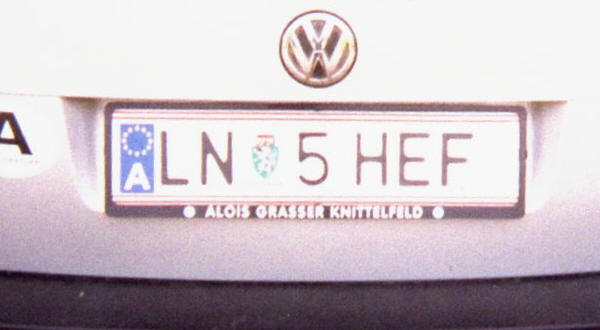license_plate: (109, 108, 523, 207)
